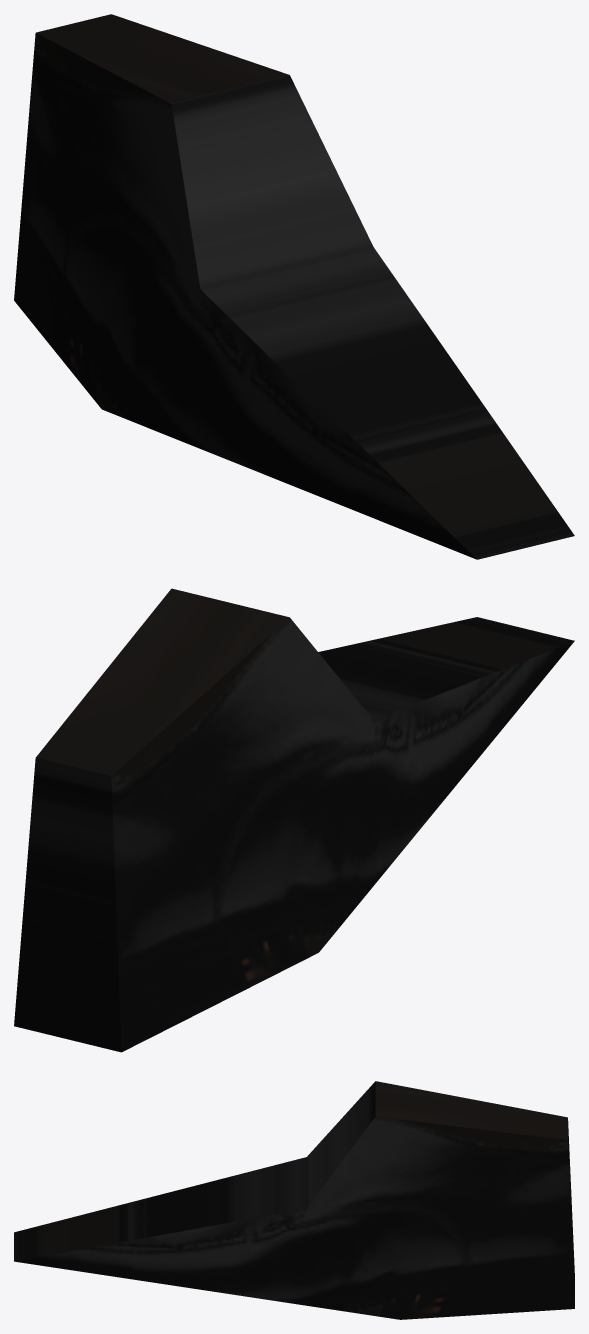
Rendered from p6_shoe_single_02_lod2.glb.
3 renders of one model, top to bottom at view 1: azimuth 30°, elevation 25°; view 2: azimuth 150°, elevation 25°; view 3: azimuth 270°, elevation 25°, orthographic. The views are drawn at different scales.
Visible parts, largest first — view 1: surf0; view 2: surf0; view 3: surf0.
Boxes of the visible parts, bbox=[...] form: surf0: bbox=[14, 14, 574, 559]; surf0: bbox=[14, 588, 574, 1052]; surf0: bbox=[14, 1081, 574, 1319].
Size of the model in its own units: 3.37 by 4.7 by 12.31.
